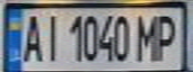0: (112, 11, 133, 63), (81, 11, 100, 62)
1: (63, 11, 84, 62)
4: (100, 11, 118, 62)
A: (18, 10, 45, 63)
I: (39, 10, 63, 63)
M: (133, 11, 160, 62)
P: (151, 11, 184, 62)
